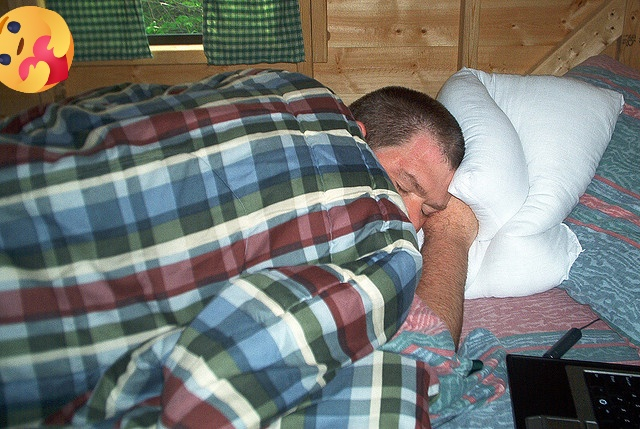care: (0, 6, 74, 93)
